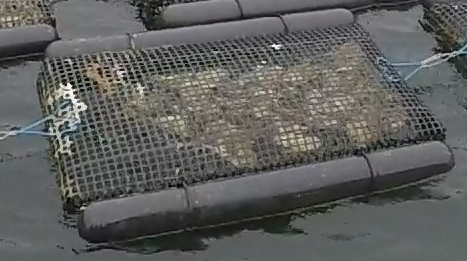bag: (42, 17, 448, 242)
